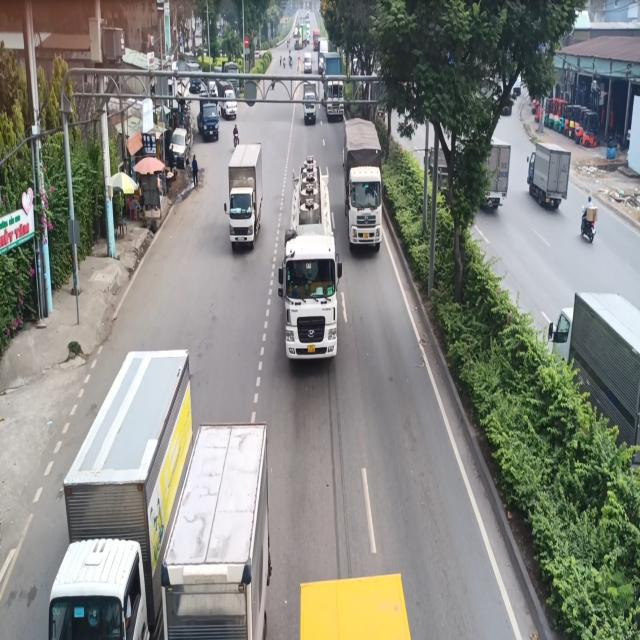truck: (48, 340, 199, 640), (280, 150, 344, 384), (337, 110, 384, 266), (225, 143, 268, 255)
